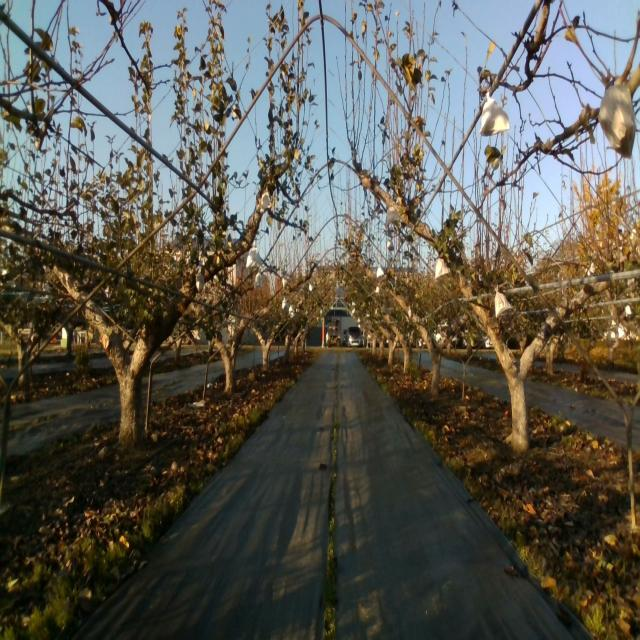pearbags: (598, 70, 636, 160), (480, 87, 510, 136), (494, 283, 512, 318), (246, 238, 263, 267), (435, 255, 451, 281), (260, 187, 272, 213), (386, 205, 400, 227), (195, 268, 206, 293)
